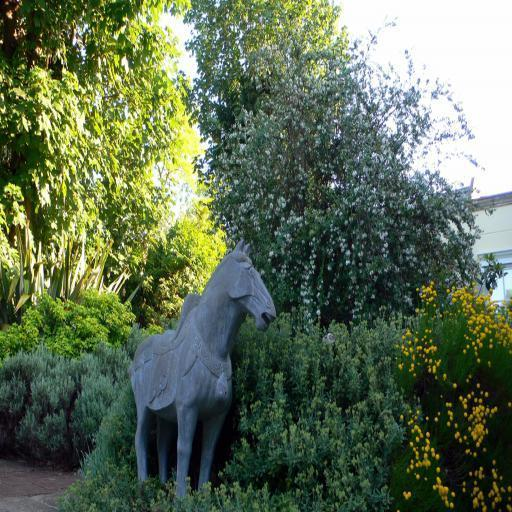horse: (130, 234, 278, 504)
